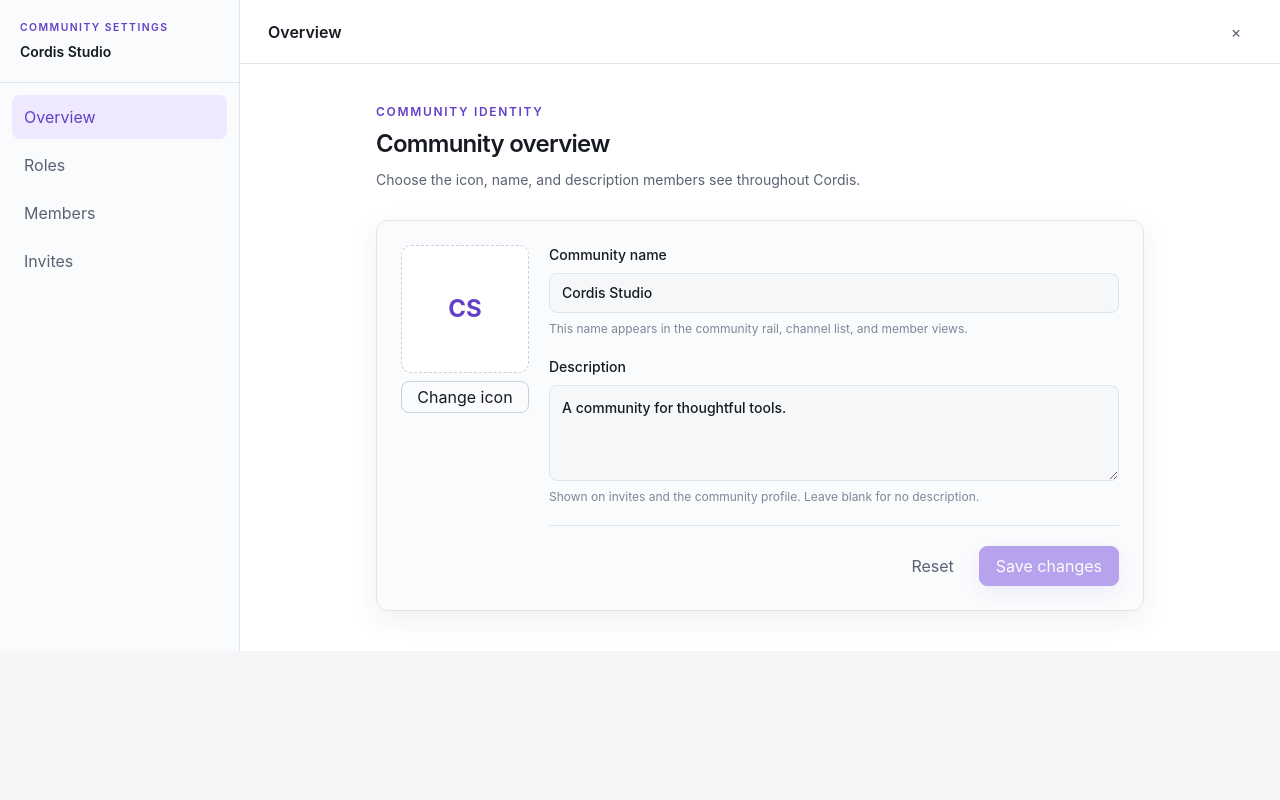
GuildSettingsPage › updates the community name and description and refreshes the guild cache
Replace the text in the field labelled "Community name" with "Cordis Community" at (834, 293), box [549,273,1119,313]
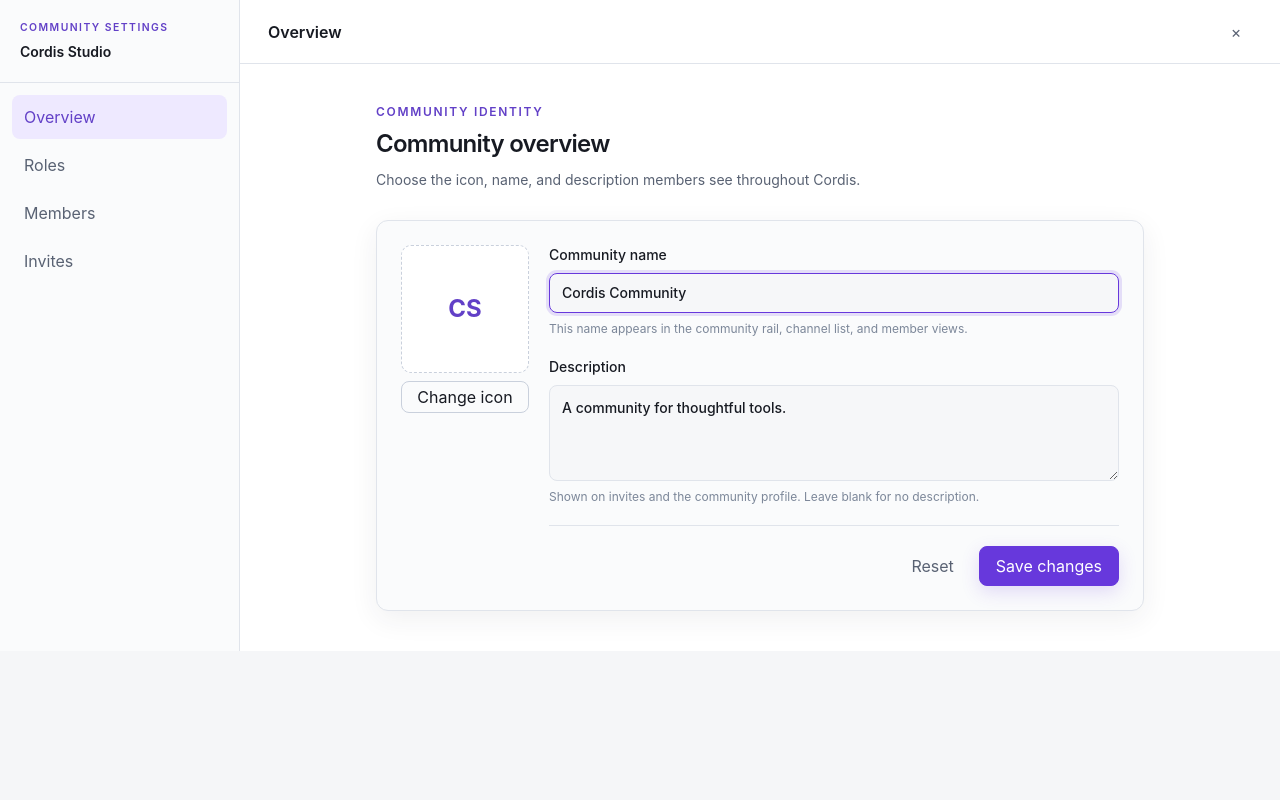
Replace the text in the text box labelled "Description" with "Updated community description." at (834, 433), box [549,385,1119,481]
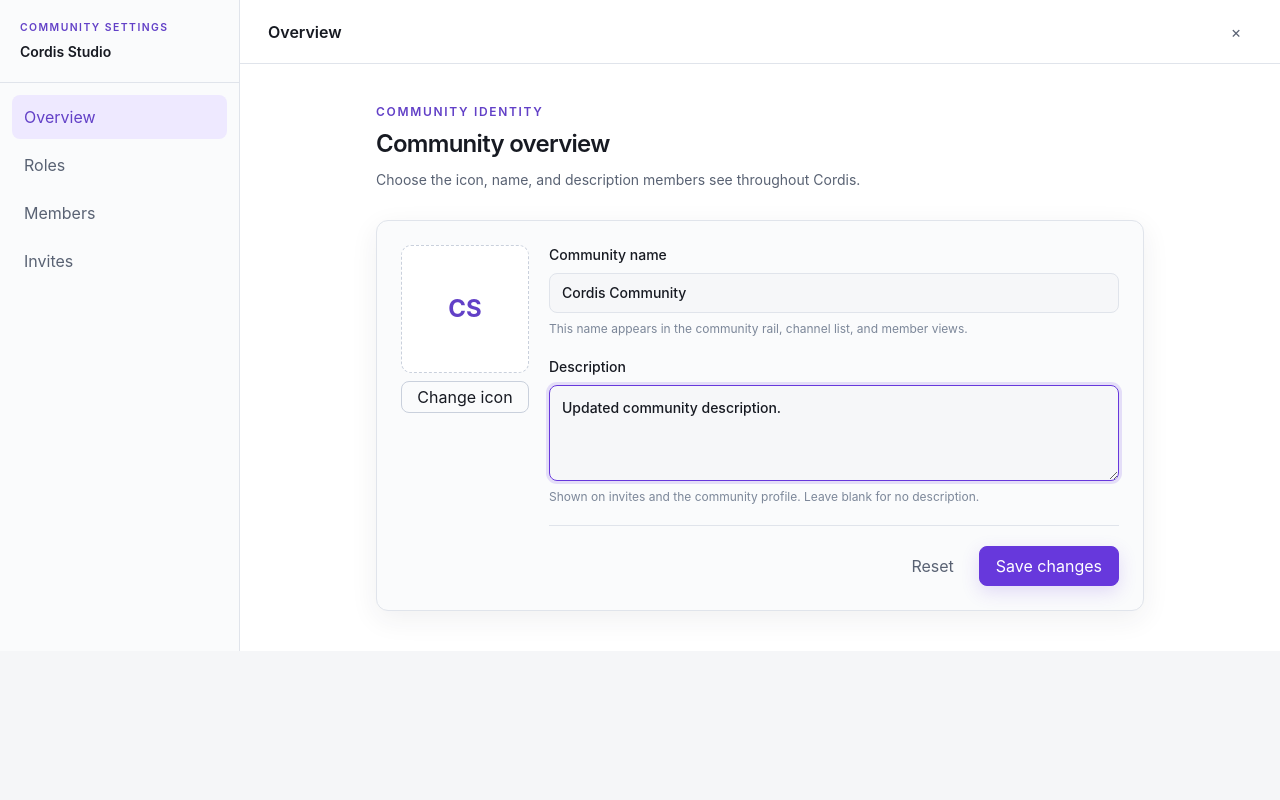
Click the button "Save changes" at (1049, 566), box [979,546,1119,586]
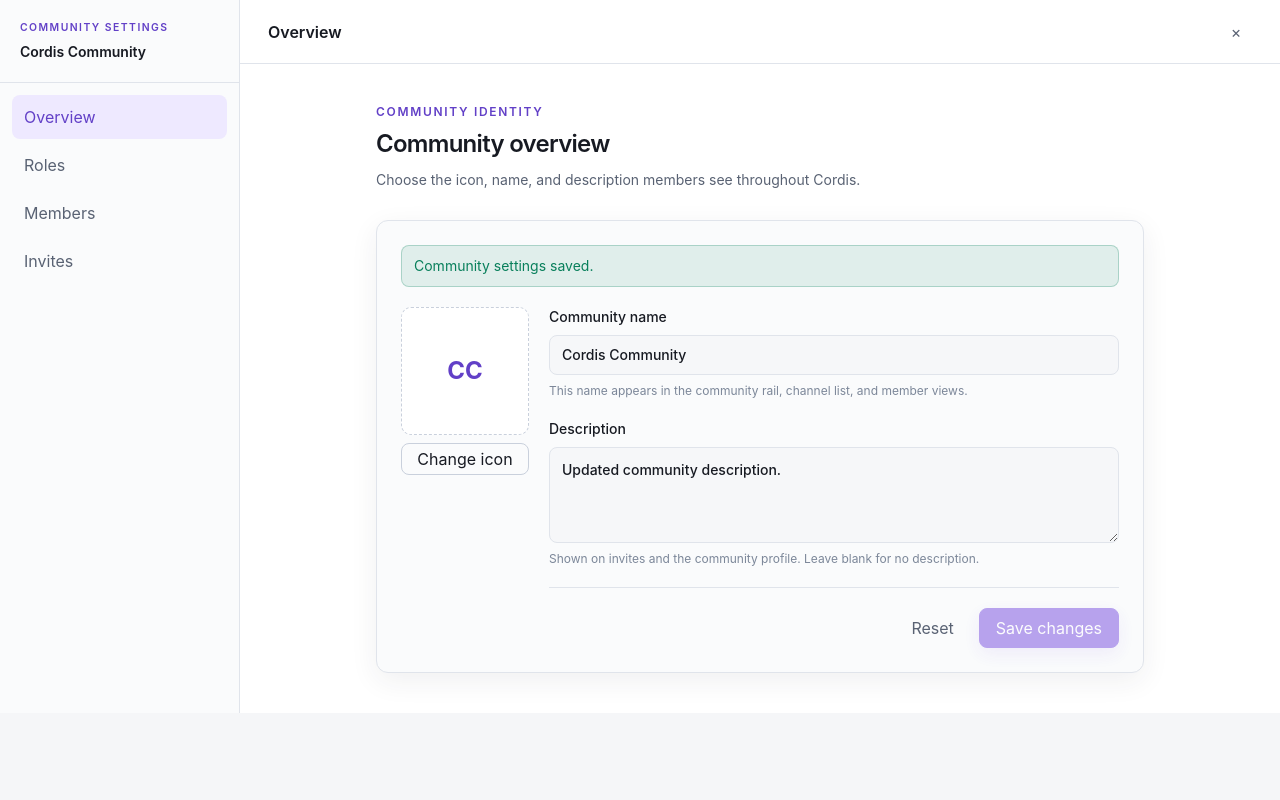
Expected: the message reads "Community settings saved.", [414,257,594,274]
